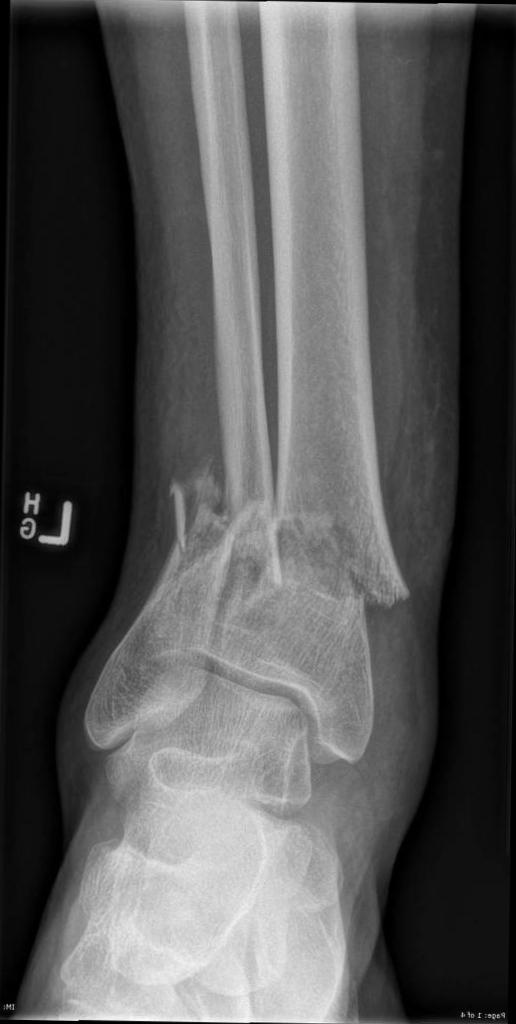messed_up_angle: (236, 490, 414, 624), (131, 466, 283, 620)
